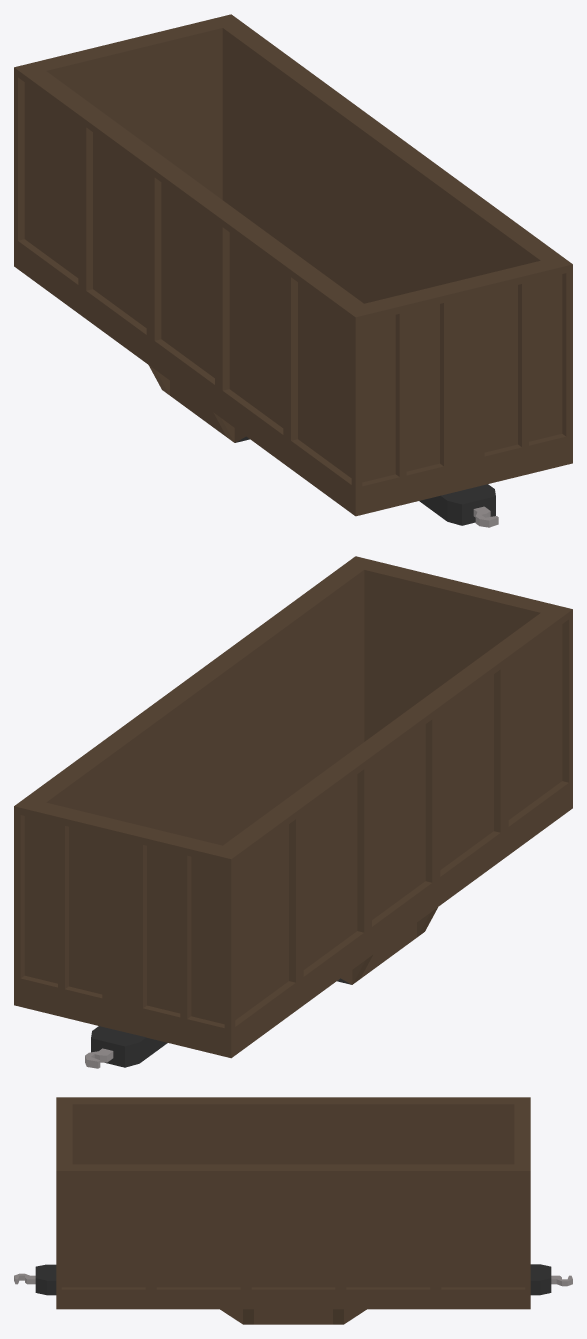
File: train-wagon-hopper-base.glb
The picture shows the model from 3 angles, top to bottom: view 1: azimuth 30°, elevation 25°; view 2: azimuth 150°, elevation 25°; view 3: azimuth 270°, elevation 25°; orthographic projection. The views are drawn at different scales.
Visible parts, largest first — view 1: train-wagon-hopper-base; view 2: train-wagon-hopper-base; view 3: train-wagon-hopper-base.
Boxes of the visible parts, box(x1,y1,x2,y2) form: train-wagon-hopper-base: box(14, 14, 572, 527); train-wagon-hopper-base: box(14, 556, 572, 1068); train-wagon-hopper-base: box(14, 1097, 572, 1324).
Bounding box in the file's own units: 3.2 × 3.2 × 10.26.
Materials: 1 (1 with a texture image).
